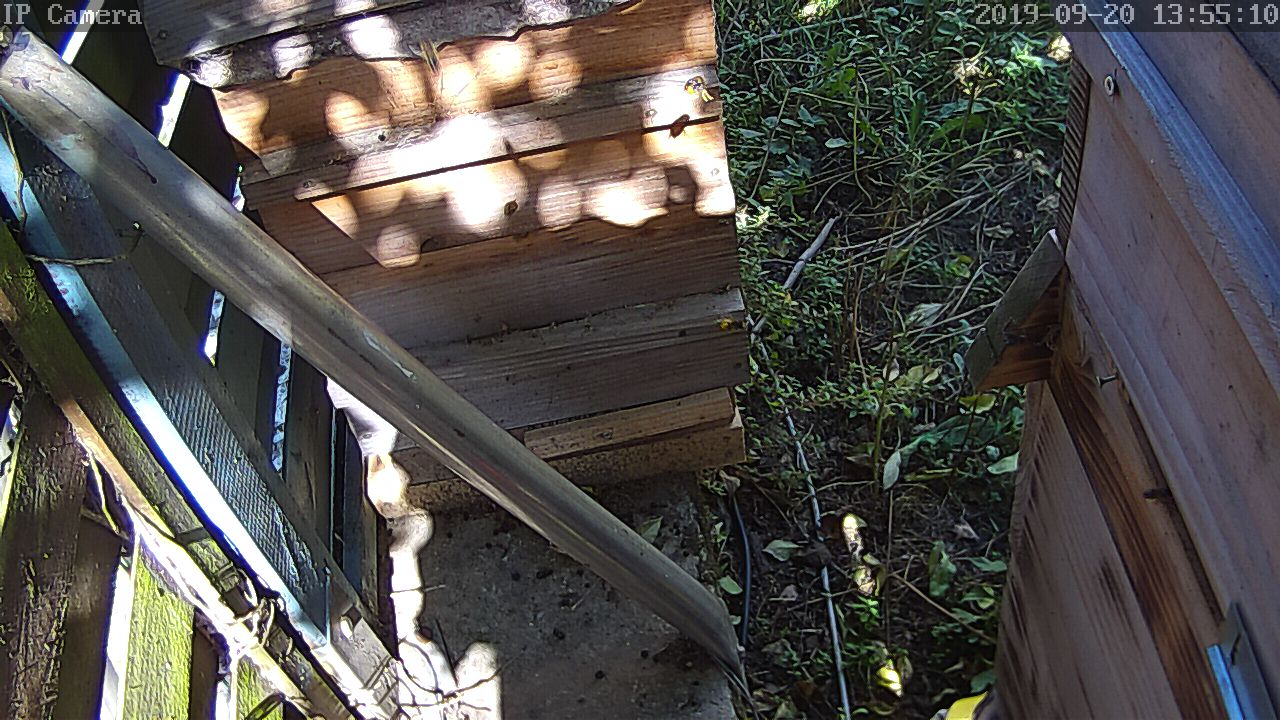hornet: (676, 75, 724, 113)
